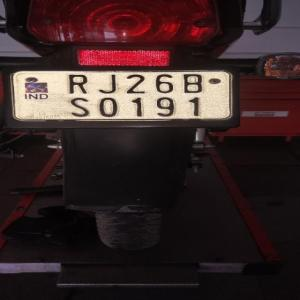Plate: (18, 72, 227, 120)
